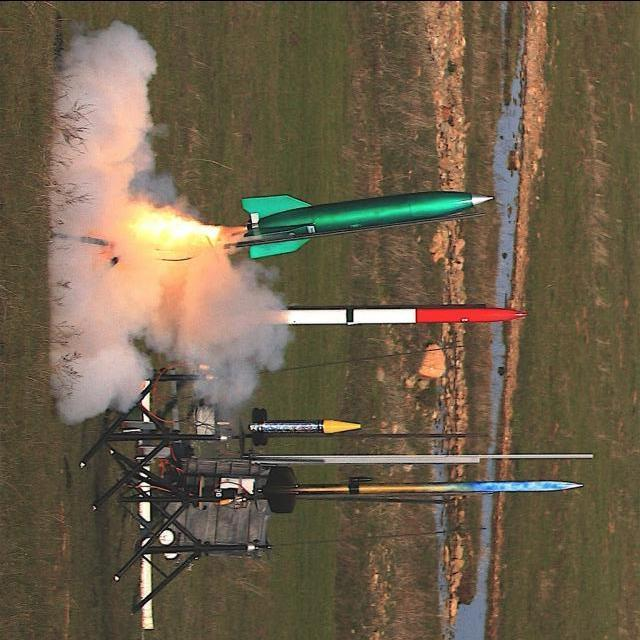Missile: (224, 182, 495, 260), (284, 476, 583, 498), (270, 304, 526, 326), (246, 409, 364, 446)
